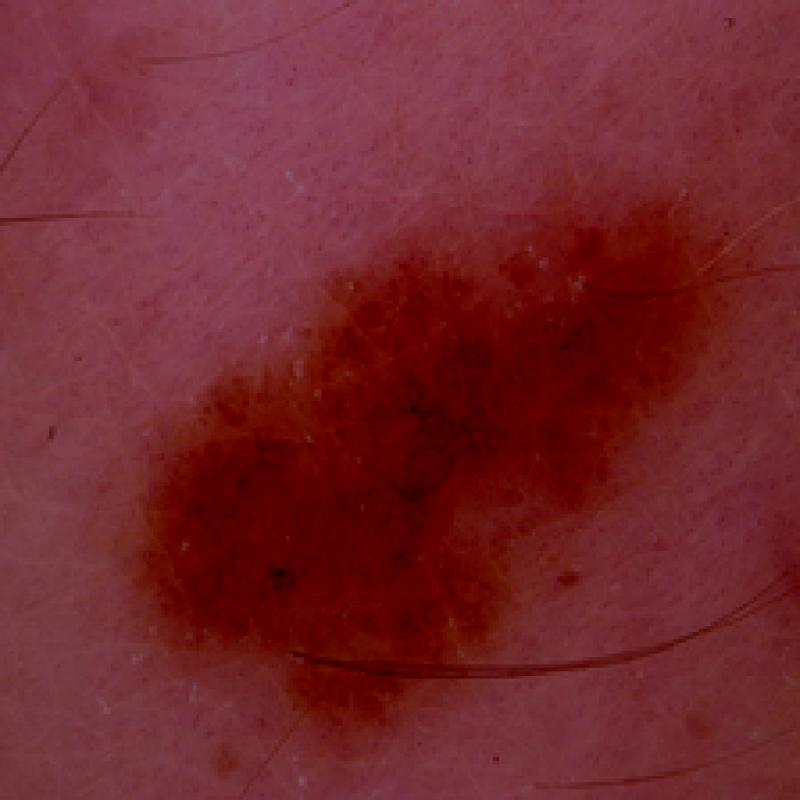benign: (121, 184, 732, 744)
